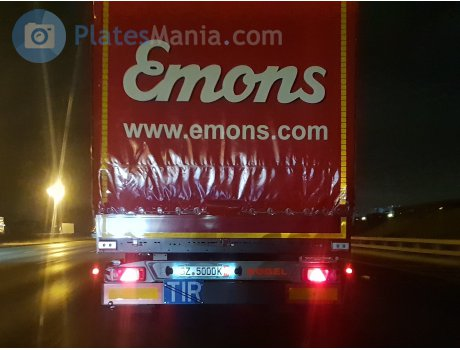License Plates: (172, 264, 226, 280)
